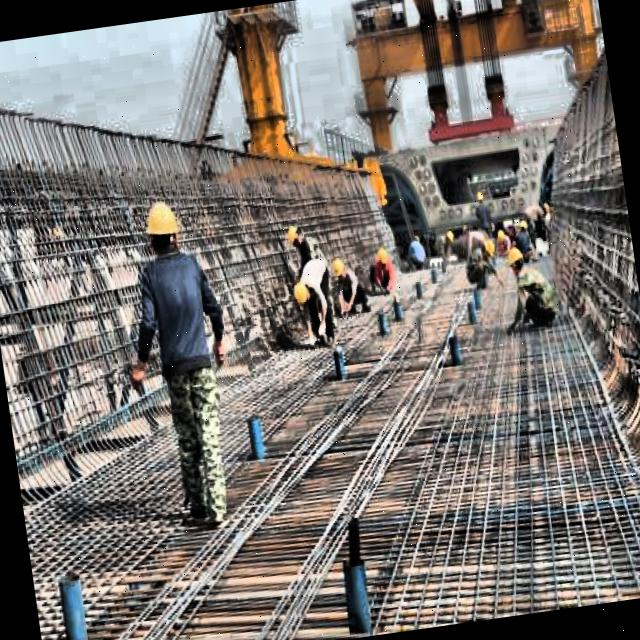helmet: (140, 194, 184, 262), (504, 240, 531, 277), (288, 277, 316, 309), (280, 220, 306, 252), (327, 255, 352, 287), (478, 232, 502, 264), (375, 244, 390, 268)
